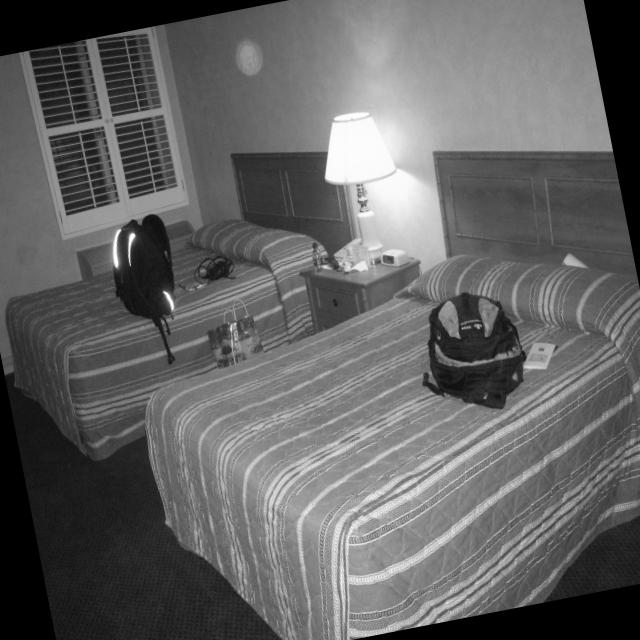2001: (18, 28, 188, 237)
bed -occluded-: (153, 254, 640, 640), (8, 217, 329, 462)
cabinet door: (303, 239, 423, 328)
floor -X: (9, 287, 640, 640)
headboard: (435, 151, 636, 282), (232, 148, 356, 254)
lamp crop: (325, 110, 396, 267)
rucksack: (425, 288, 526, 408), (114, 212, 175, 363)
wall clock: (164, 0, 640, 468), (0, 26, 212, 380)
